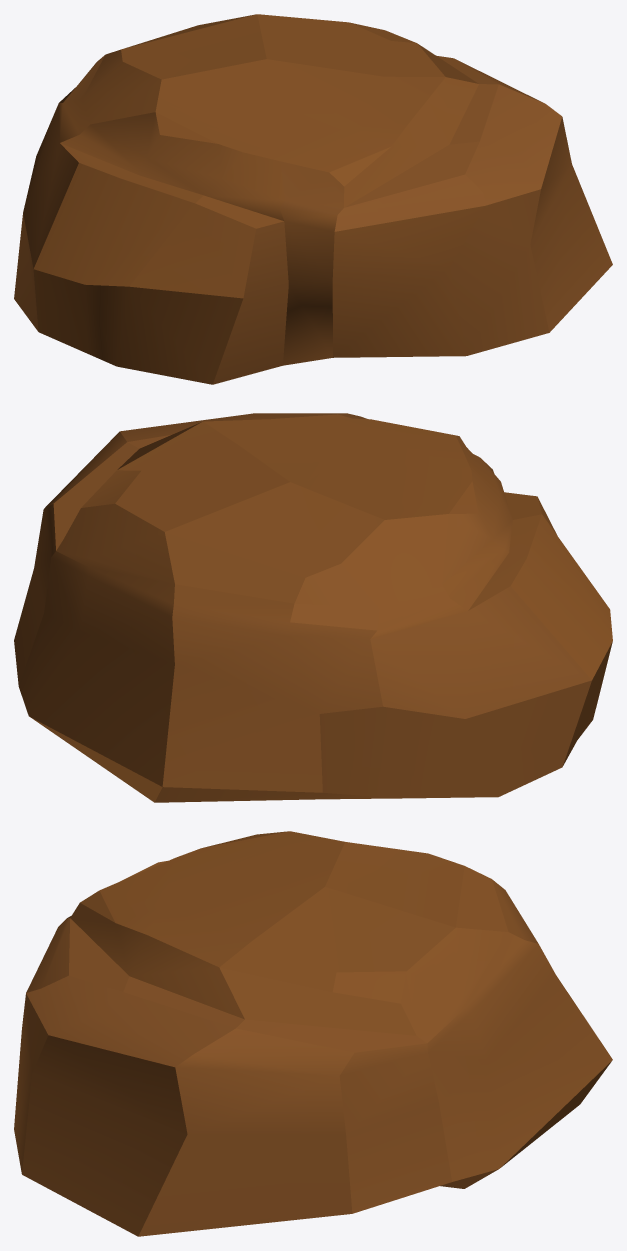
File: rocklarge.glb
3 renders of one model, top to bottom at view 1: azimuth 30°, elevation 25°; view 2: azimuth 150°, elevation 25°; view 3: azimuth 270°, elevation 25°, orthographic. The views are drawn at different scales.
Visible parts, largest first — view 1: Rock_Large_1; view 2: Rock_Large_1; view 3: Rock_Large_1.
Boxes of the visible parts, x1,y1,x2,y2 form: Rock_Large_1: (14, 14, 612, 384); Rock_Large_1: (14, 413, 612, 802); Rock_Large_1: (14, 831, 612, 1236).
Bounding box in the file's own units: 7.67 × 3.28 × 7.33.
1 material, 1 textured.
